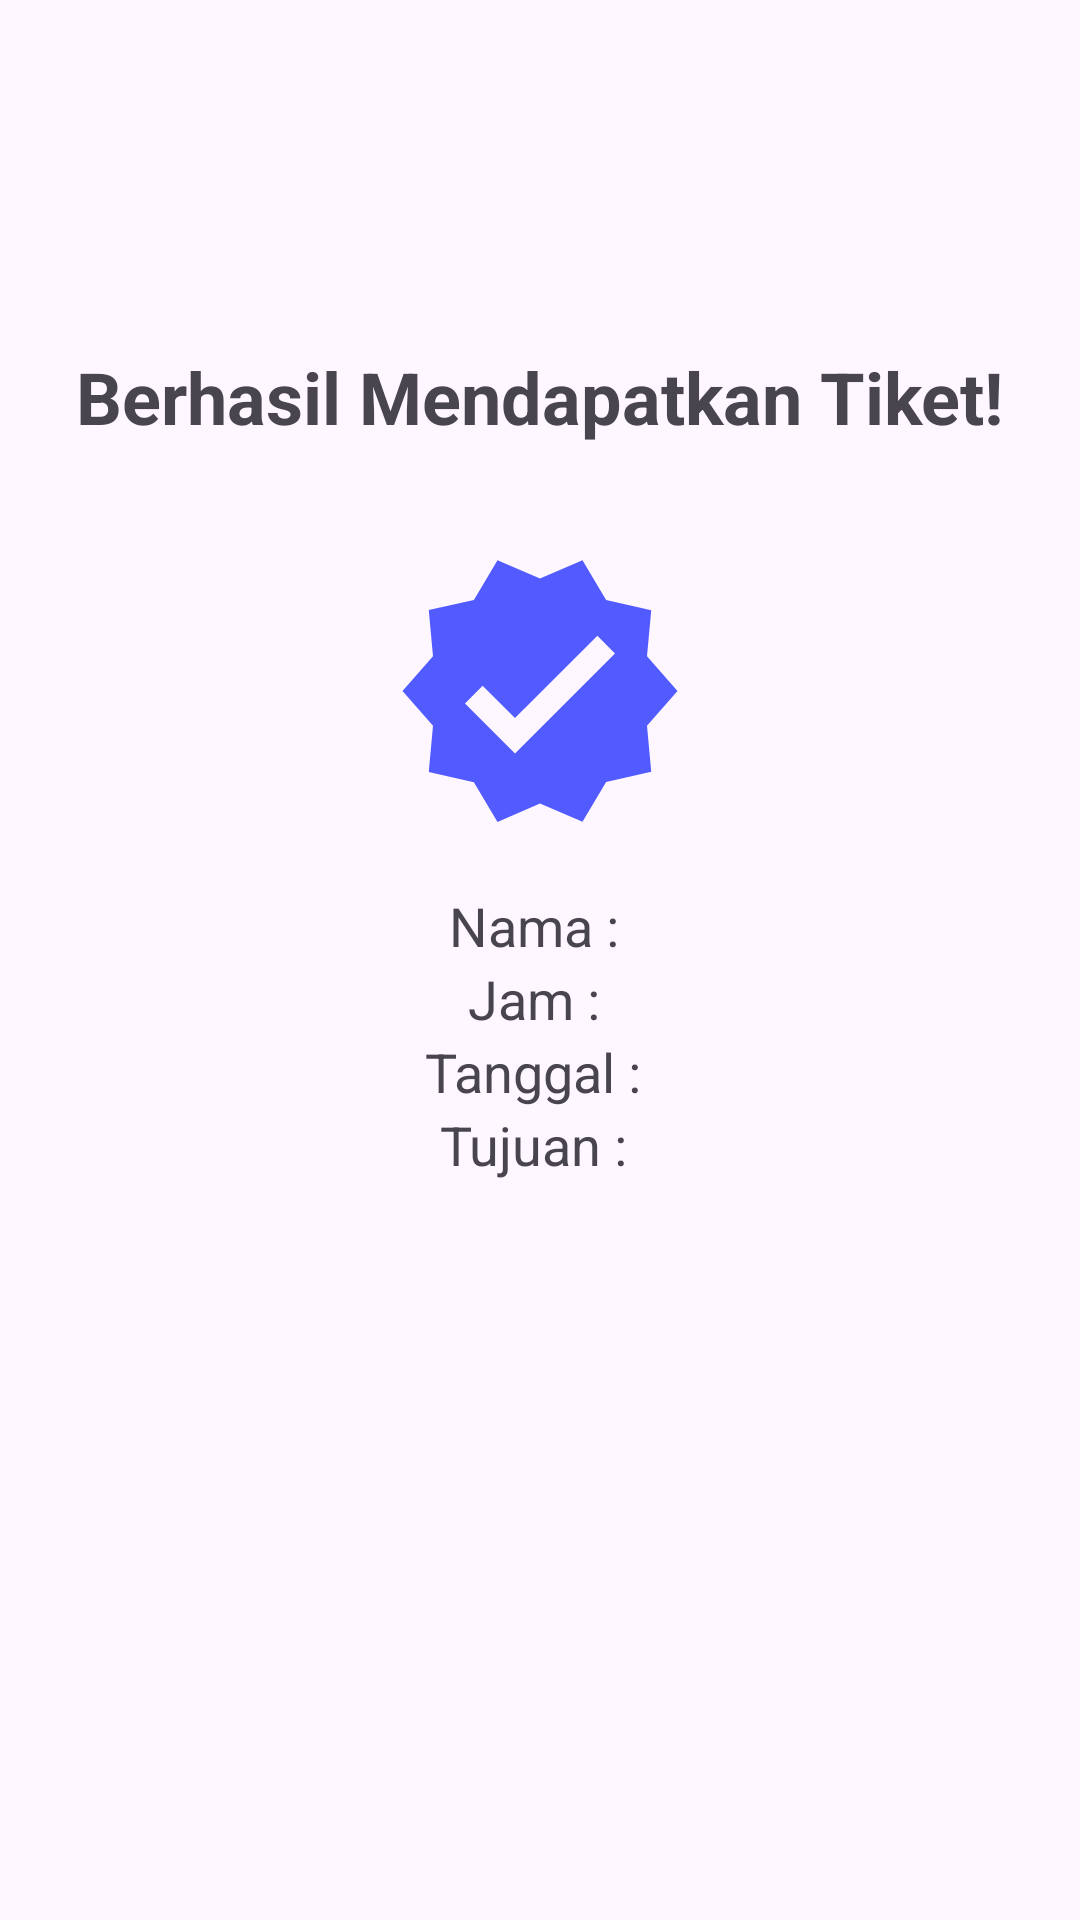

Named icons in this screenshot (1080w x 1920h) and their bounding boxes, bbox(x1, y1, x2, y2):
approve: bbox(403, 560, 677, 822)
